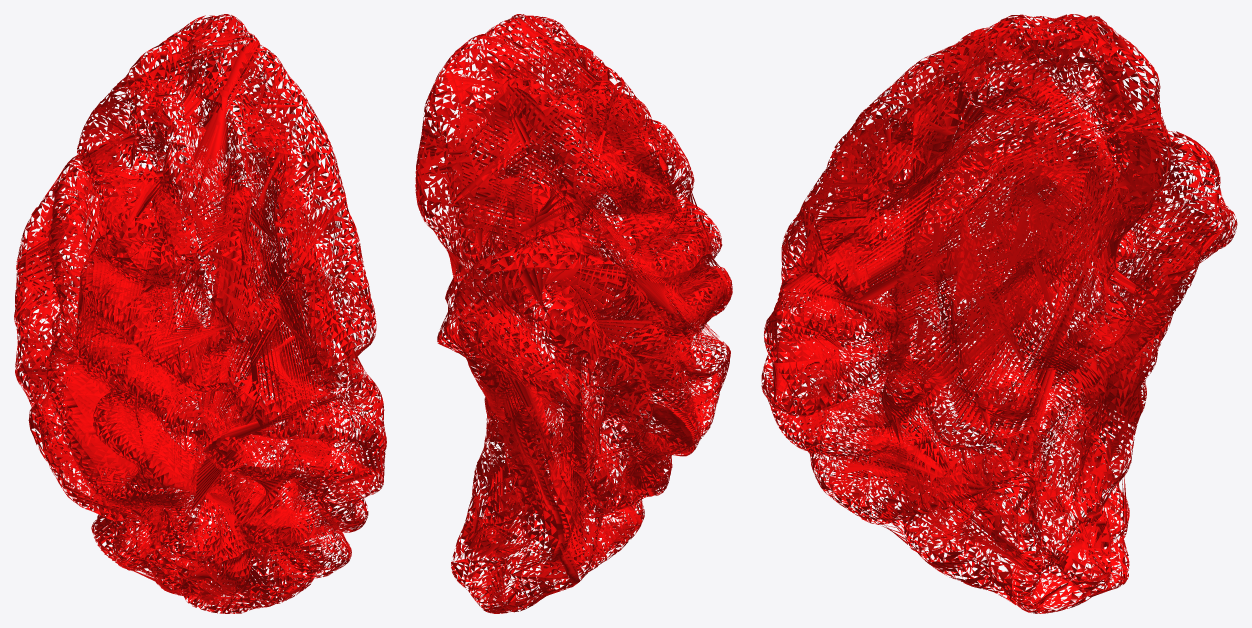
3 views of the same model, side by side, from view 1: azimuth 30°, elevation 25°; view 2: azimuth 150°, elevation 25°; view 3: azimuth 270°, elevation 25° (orthographic). The views are drawn at different scales.
Parts seen in each view (by area): view 1: node0; view 2: node0; view 3: node0.
Part boxes in pixels (x1,y1,x2,y2): node0: (14,14,386,613); node0: (415,14,732,613); node0: (761,14,1237,613).
Size of the model in its own units: 70.08 by 174 by 127.
